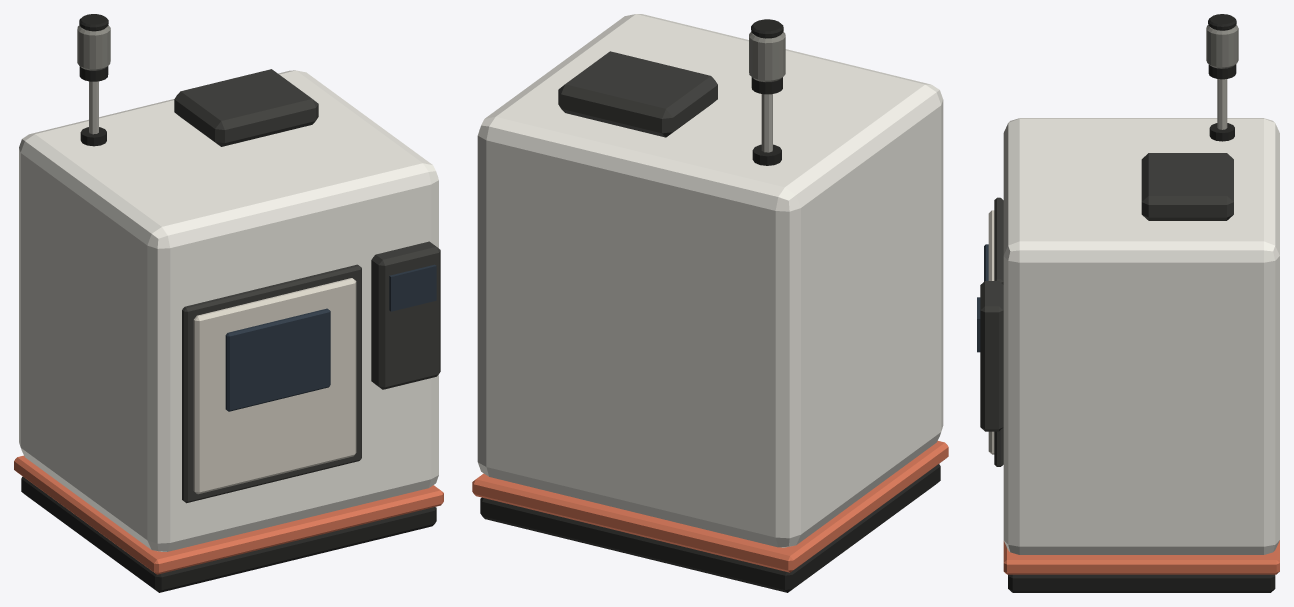
Rendered from generic_machine.glb.
3 renders of one model, left to right at view 1: azimuth 30°, elevation 25°; view 2: azimuth 150°, elevation 25°; view 3: azimuth 270°, elevation 25°, orthographic. The views are drawn at different scales.
Parts seen in each view (by area): view 1: generic_machine_parts; view 2: generic_machine_parts; view 3: generic_machine_parts.
Part boxes in pixels (x1,y1,x2,y2): generic_machine_parts: (14, 14, 443, 592); generic_machine_parts: (472, 14, 948, 592); generic_machine_parts: (977, 14, 1279, 592).
Size of the model in its own units: 1.4 by 2.23 by 1.32.
